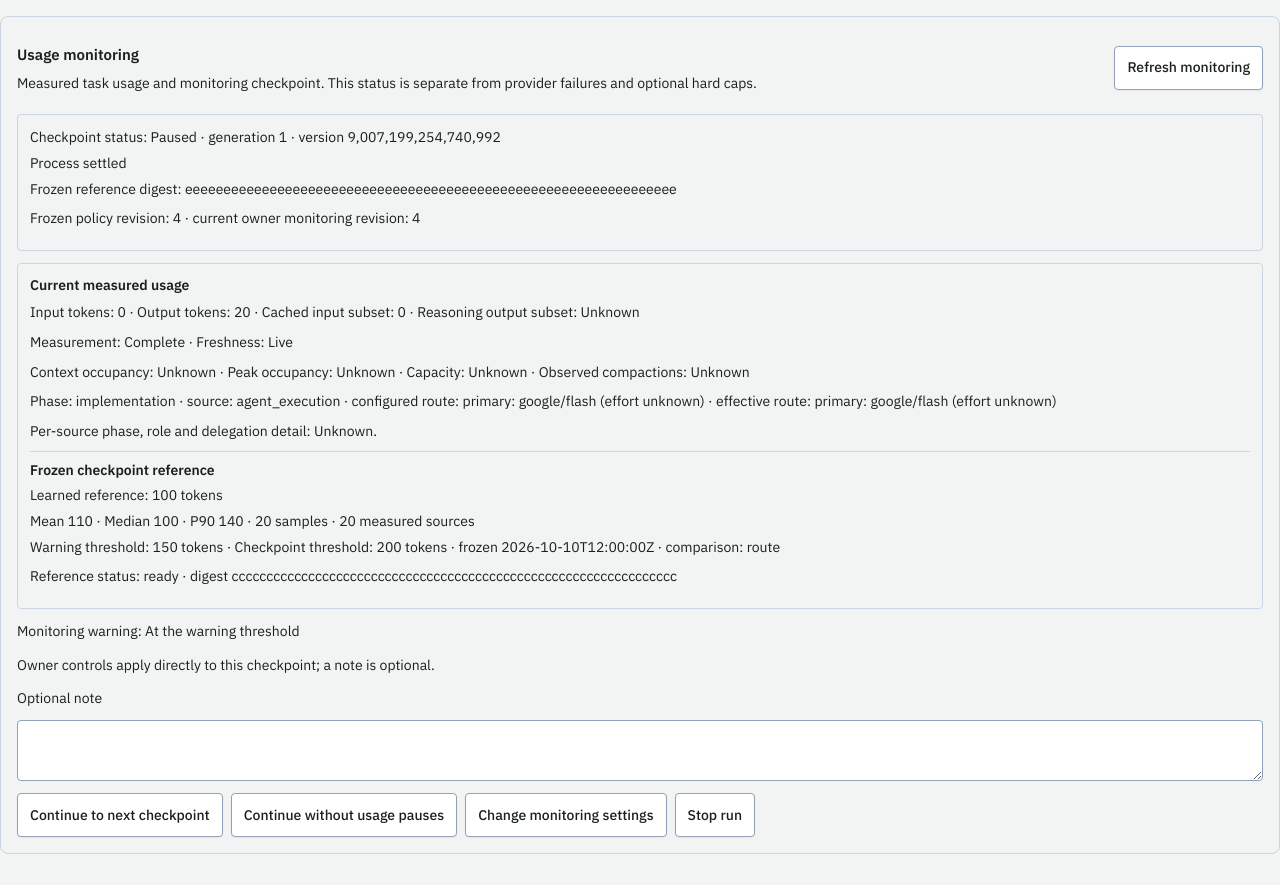
Scenario: clears high-version 409 binding and submits a fresh exact request/key
The width and height of the screenshot is (1280, 885).
Click the button "Continue without usage pauses": [344, 815] box [231,793,457,837]
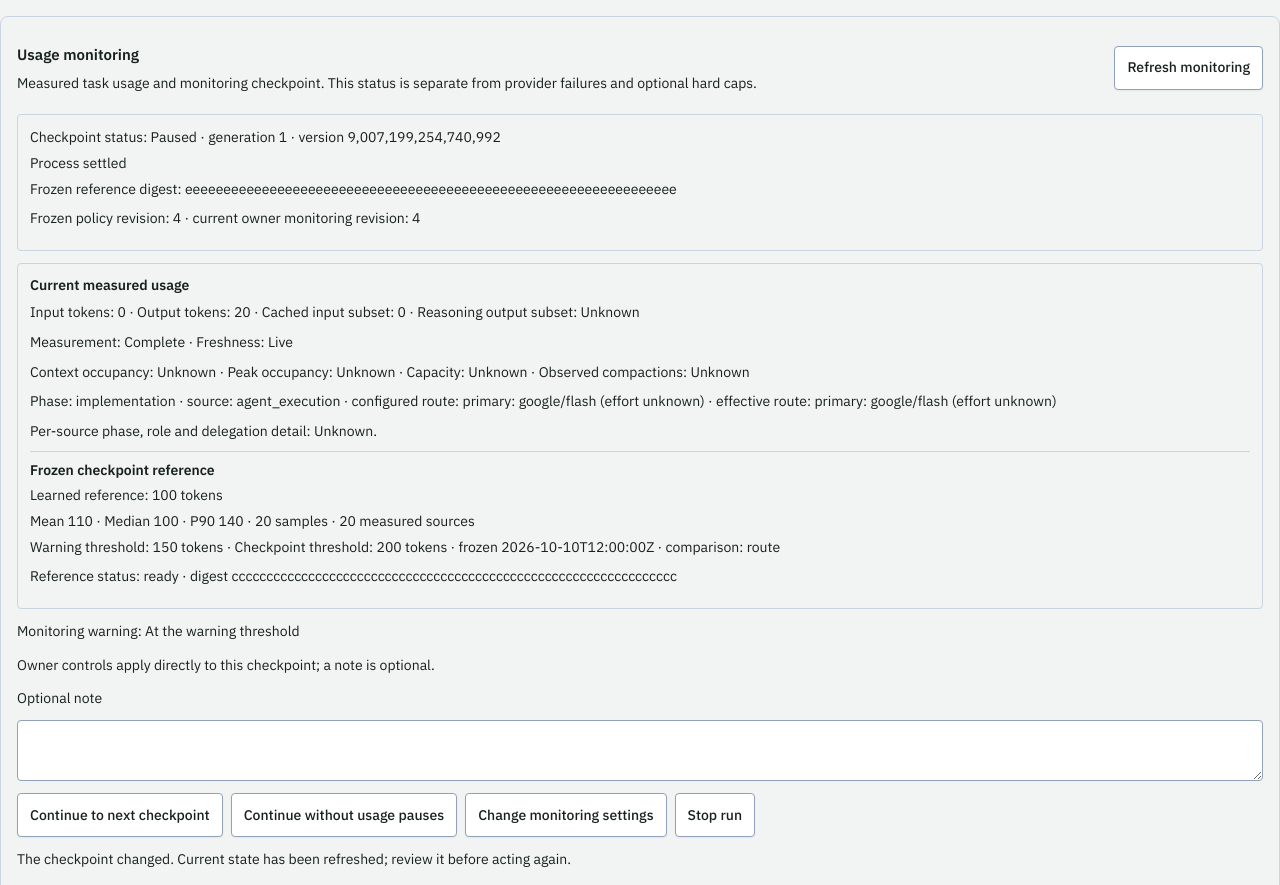
Expected: the text "checkpoint changed" is shown, [17,850,571,868]
Click the button "Refresh monitoring": [1189, 68] box [1114,46,1263,90]
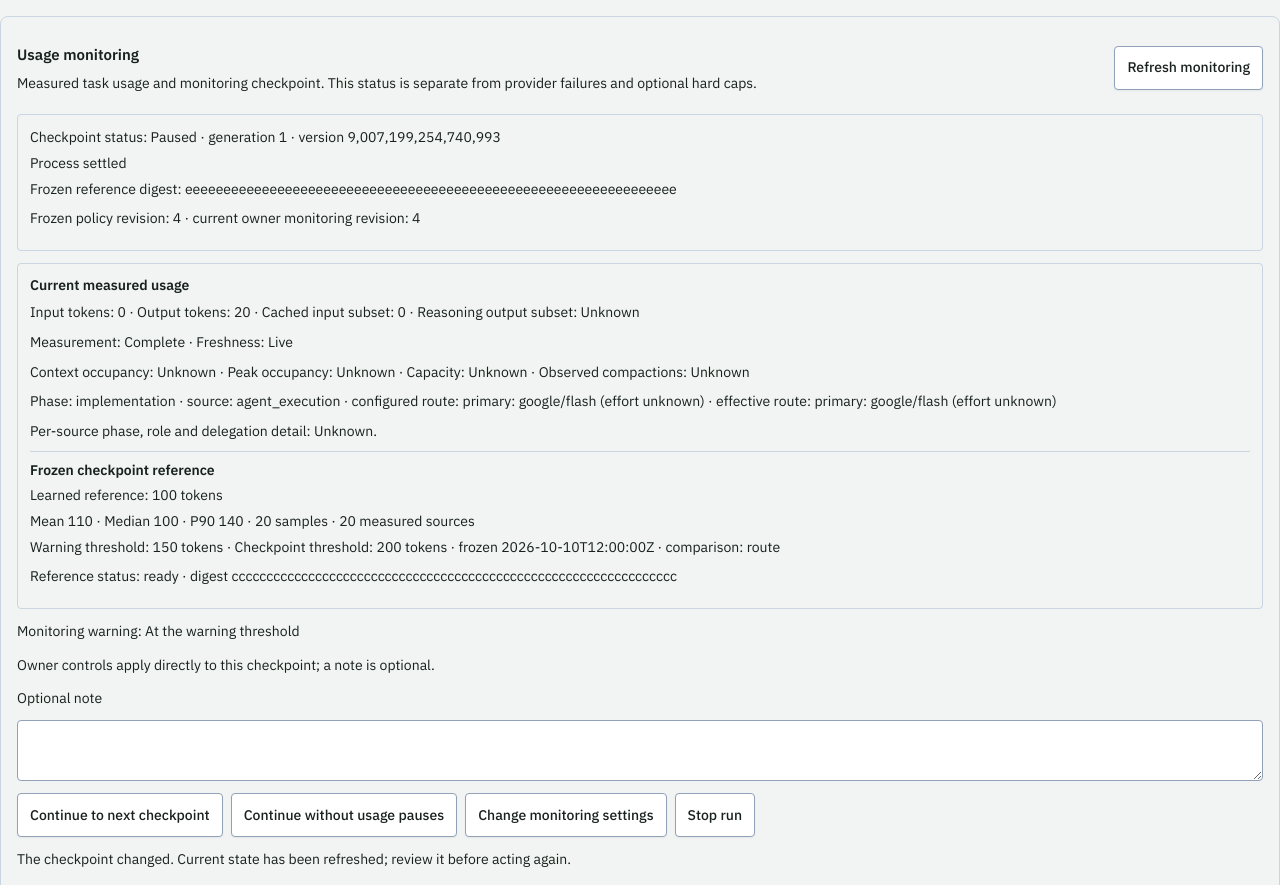
Expected: the text "version 9,007,199,254,740,993" is shown, [30,128,501,146]
Click the button "Continue without usage pauses": [344, 815] box [231,793,457,837]
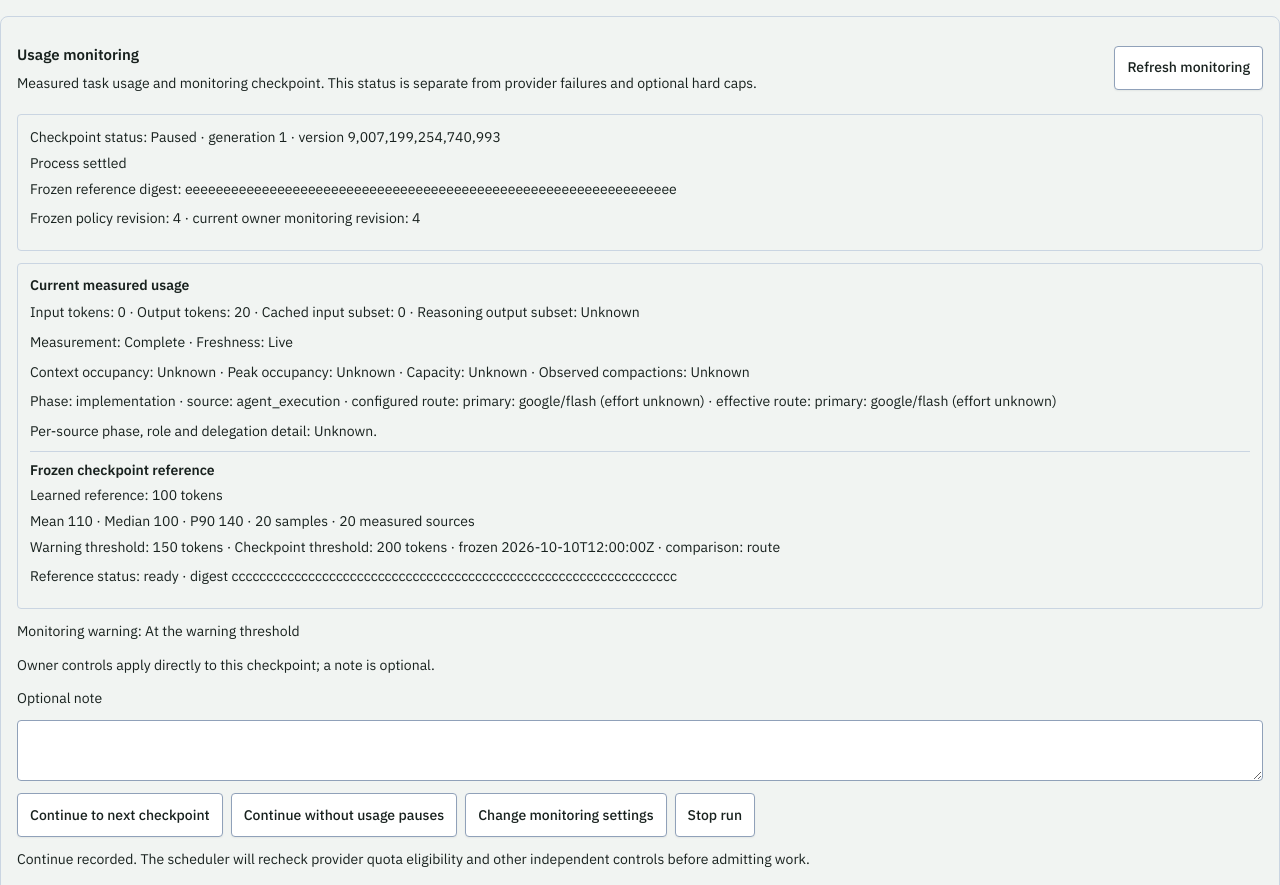
Expected: the text "Continue recorded" is shown, [17,850,810,868]
